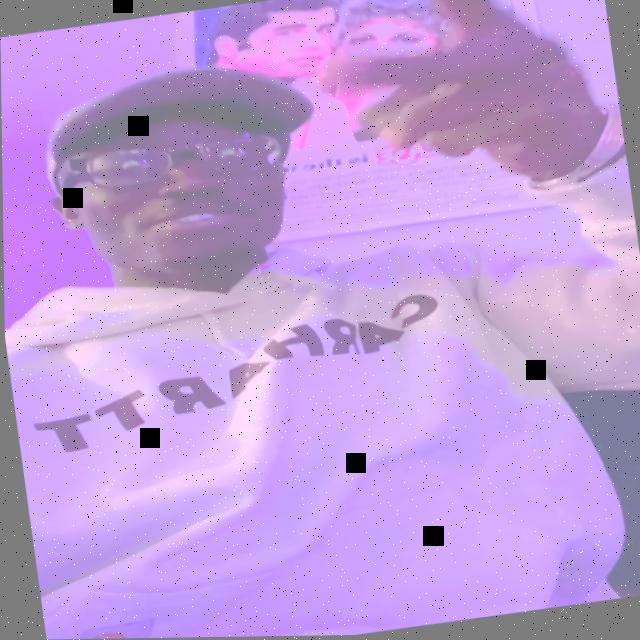Scissors: (315, 0, 604, 207)
